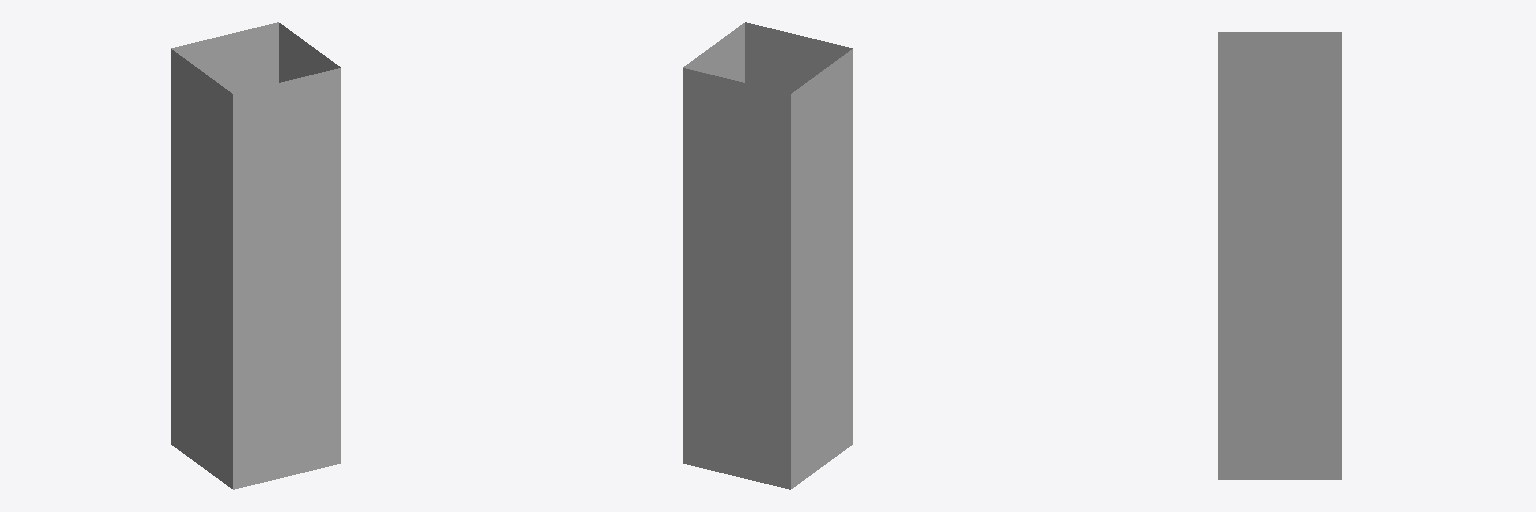
File: elevator.obj
The picture shows the model from 3 angles: view 1: azimuth 30°, elevation 25°; view 2: azimuth 150°, elevation 25°; view 3: azimuth 270°, elevation 25°; orthographic projection.
Parts seen in each view (by area): view 1: Elevator_Cube; view 2: Elevator_Cube; view 3: Elevator_Cube.
Part boxes in pixels (bbox=[...]): Elevator_Cube: bbox=[171, 22, 340, 489]; Elevator_Cube: bbox=[683, 22, 852, 489]; Elevator_Cube: bbox=[1218, 32, 1341, 479].
Bounding box in the file's own units: 2 × 7 × 2.